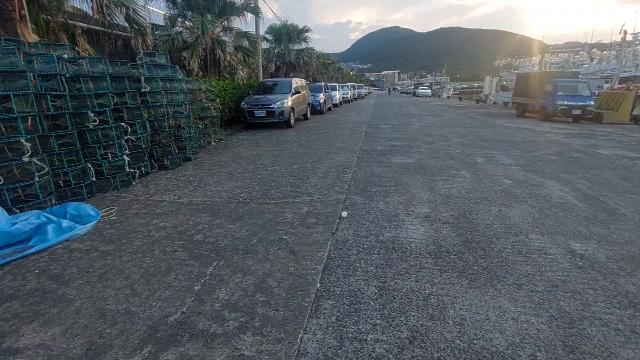pollute: (1, 200, 103, 266)
